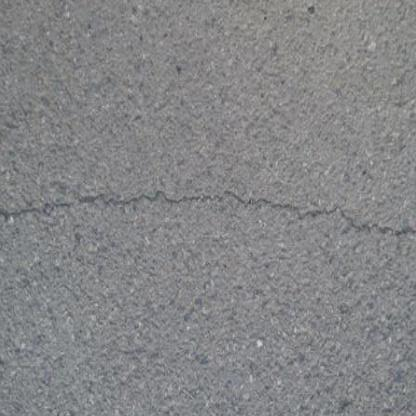Cracks: (0, 185, 416, 243)
